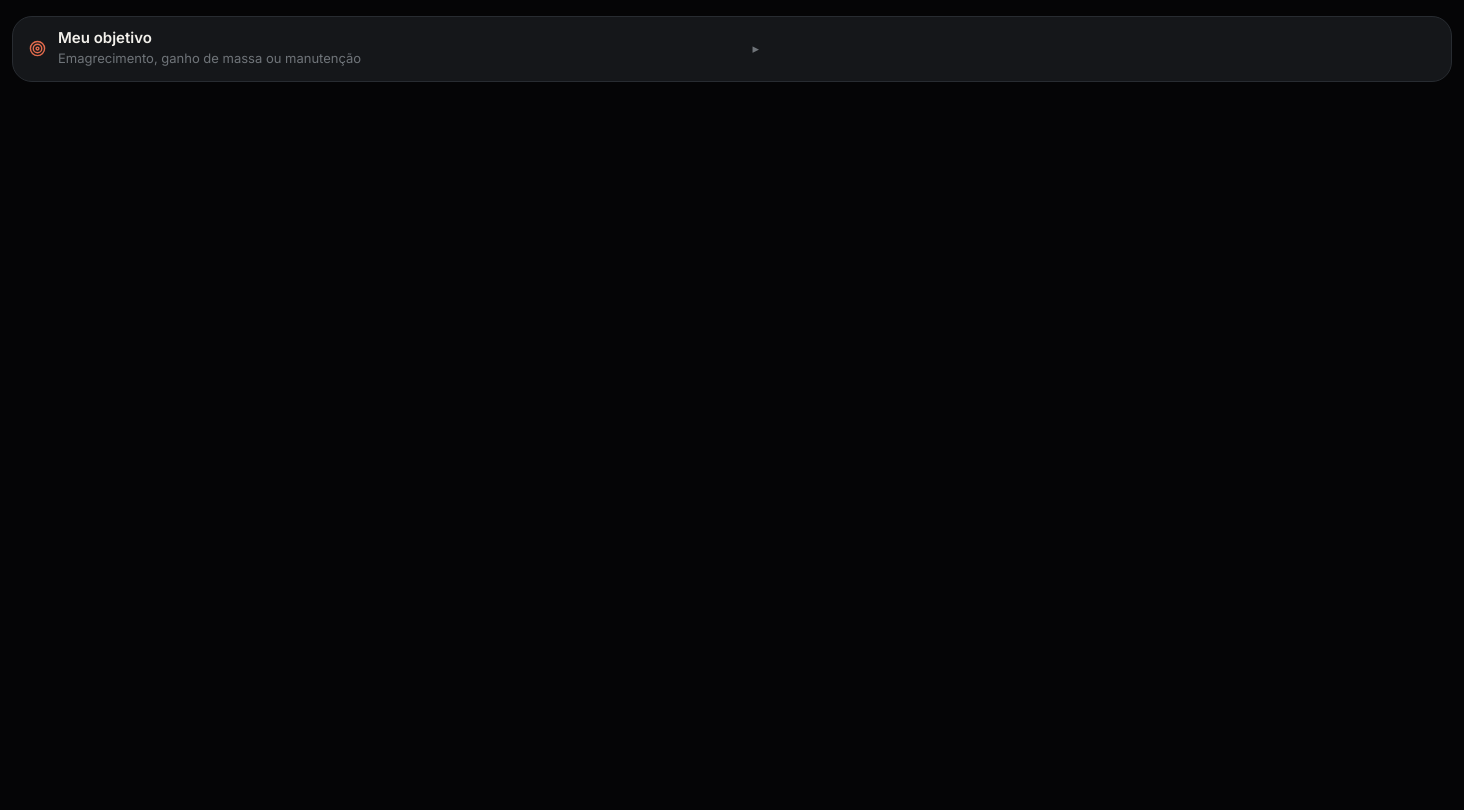
Test case: trocar de objetivo troca o ritmo para o padrao do novo
The width and height of the screenshot is (1464, 810).
Click the button with test id "abrir-objetivo" at (105, 38), box [13,17,1451,80]
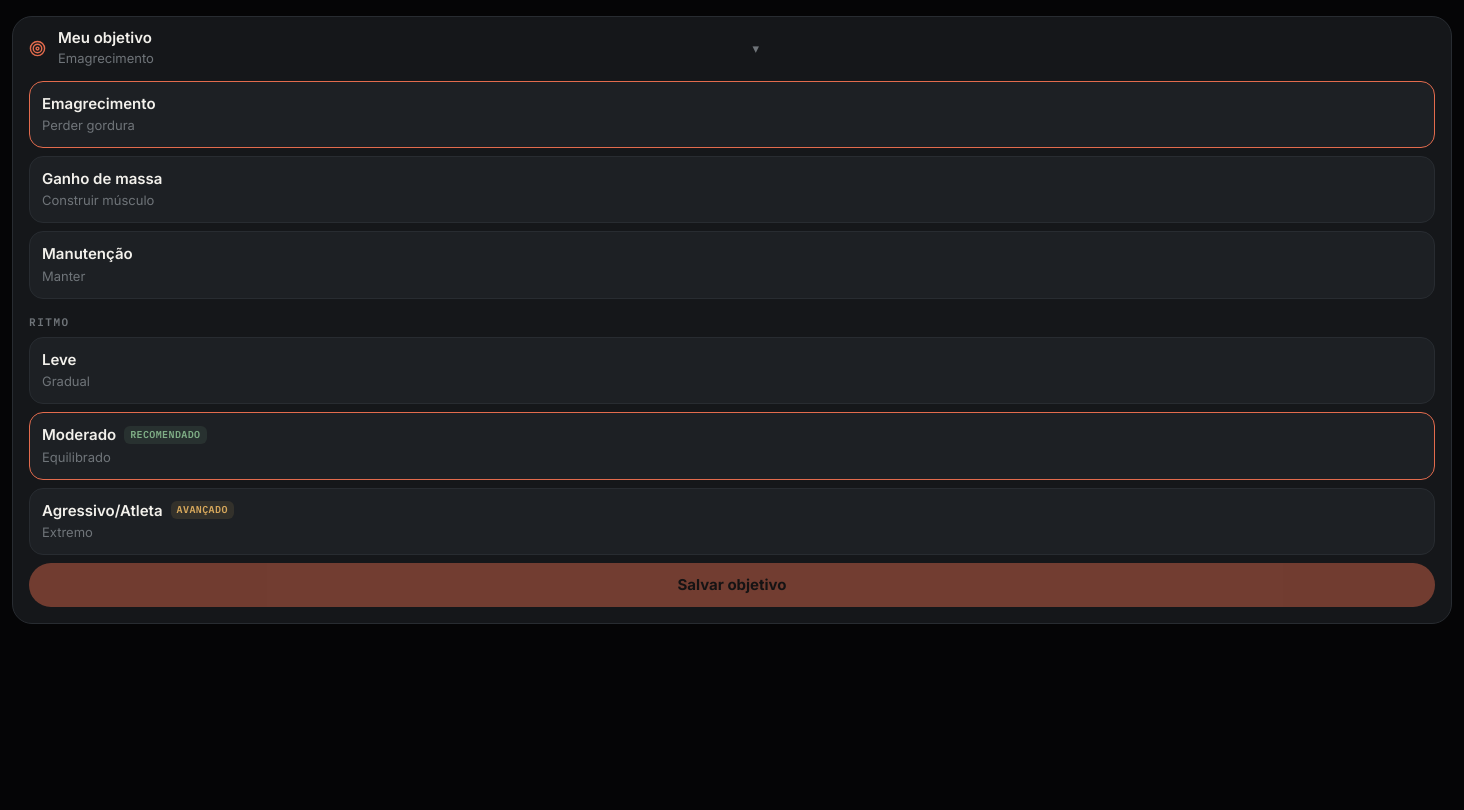
Click the button with test id "objetivo-muscle_gain" at (102, 178), box [29,156,1435,223]
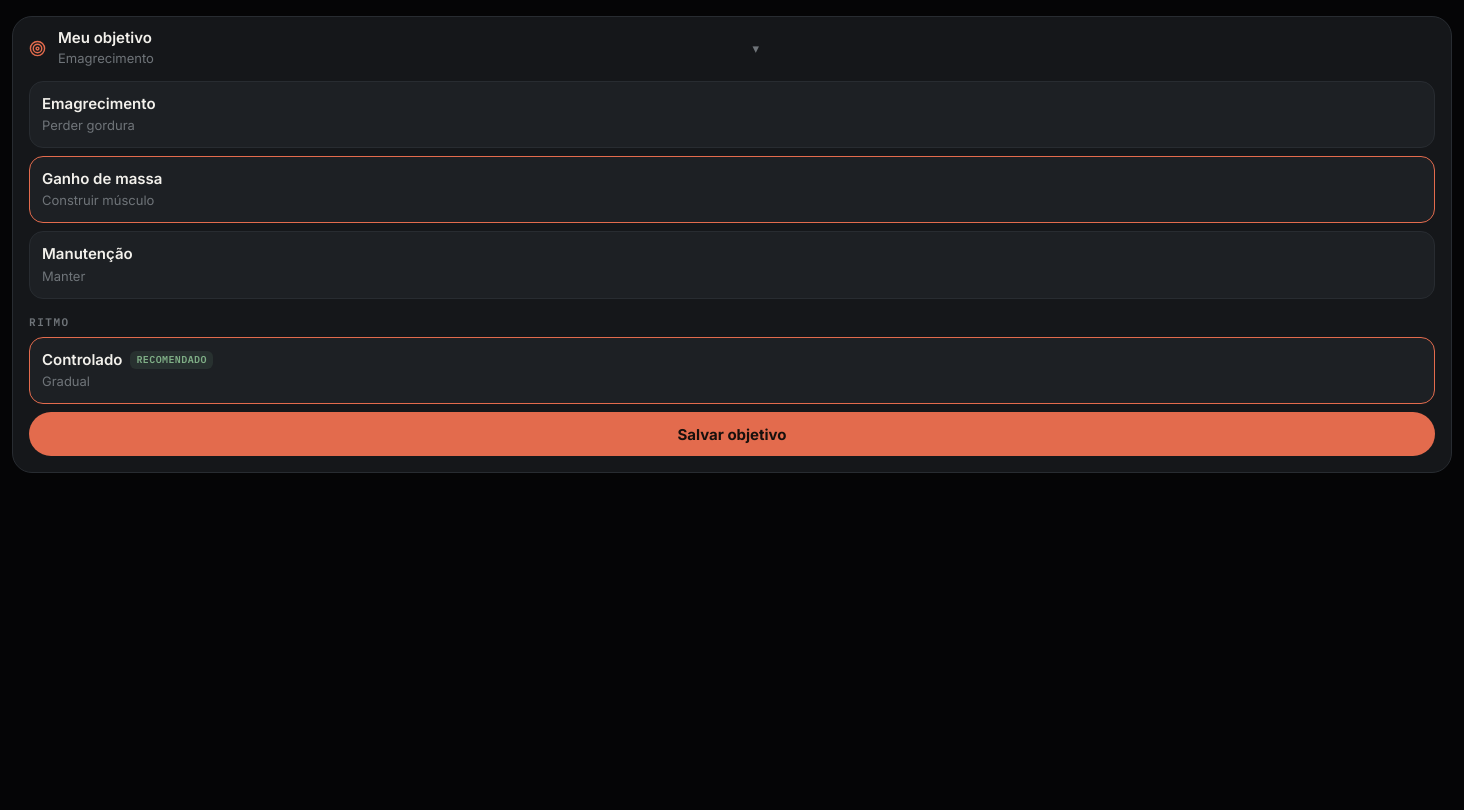
Now the button with test id "ritmo-moderado" is gone
